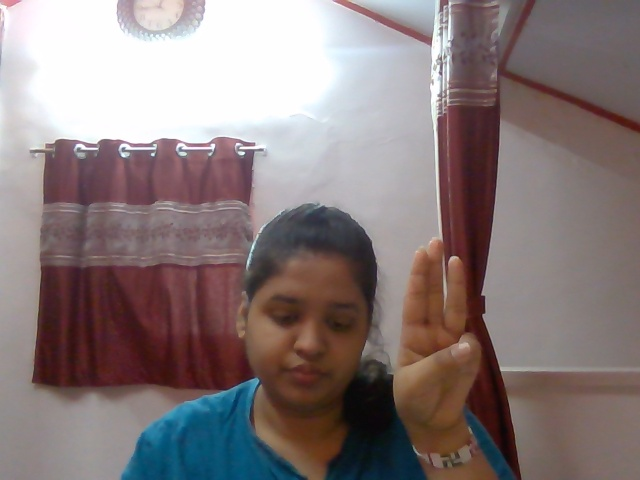w: (384, 226, 495, 436)
